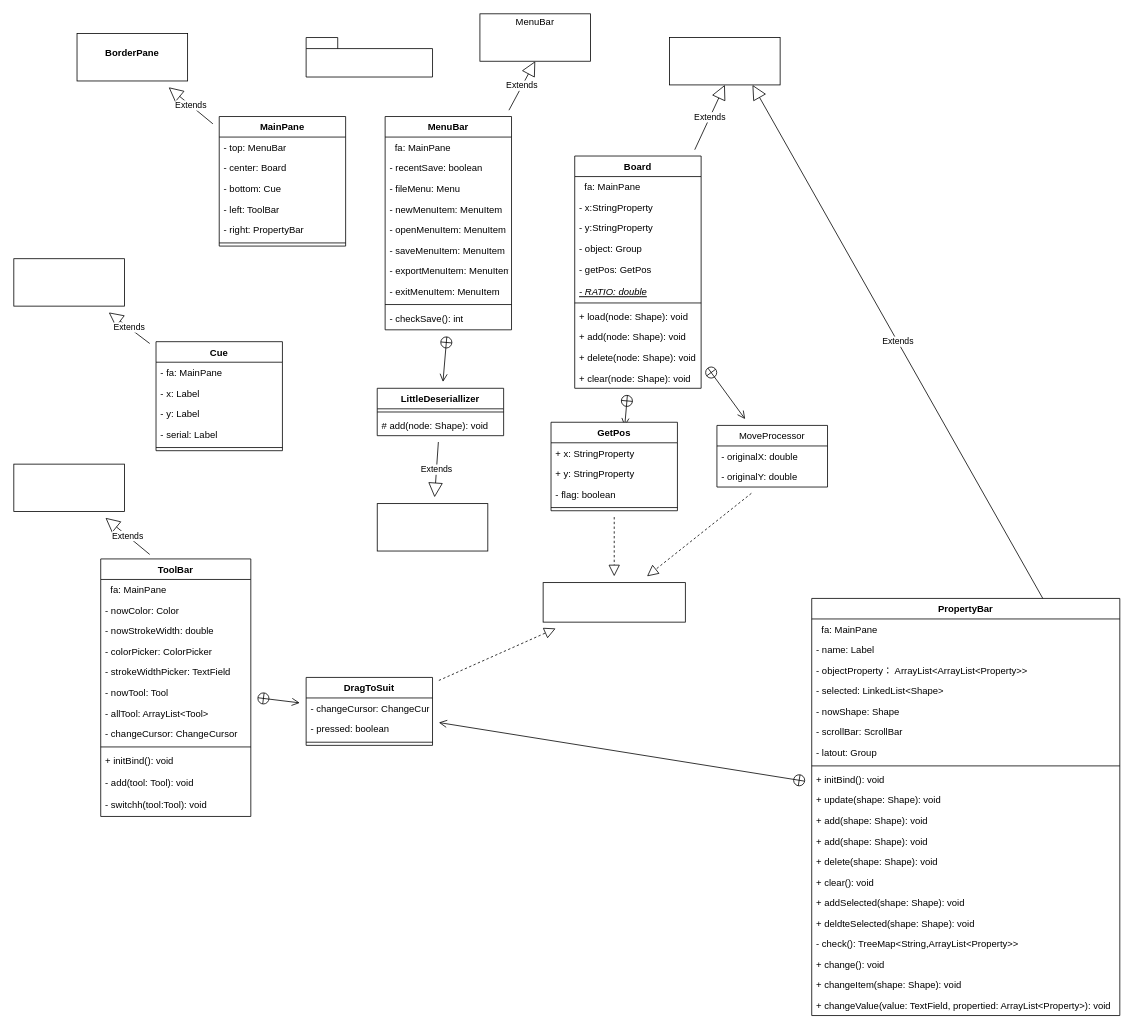
The diagram is 1134 pixels wide and 1032 high, and some of its shapes have lost their labels. Each missing label, with the centre of its shape:
Deserializer: point 432,527
HBox: point 68,282
package drawingBoard: point 369,57
Pane: point 724,61
VBox: point 68,487
«interface» EventHandler<MouseEvent>: point 613,602
